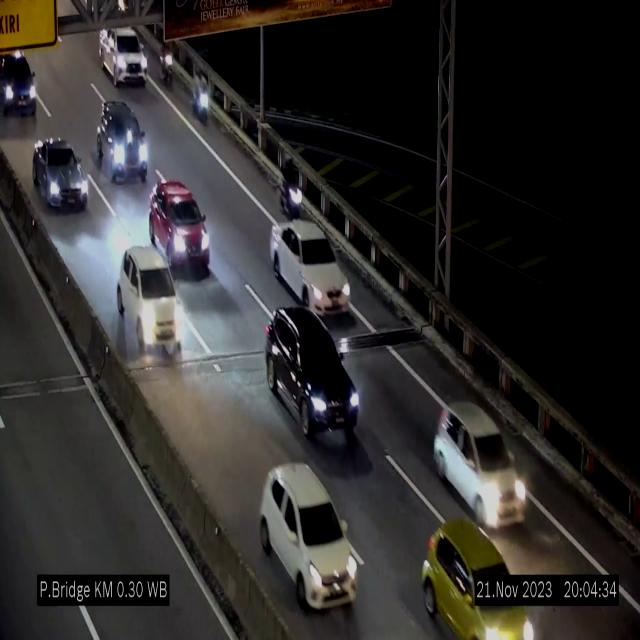Car: (260, 465, 360, 610), (420, 514, 527, 640), (265, 304, 361, 444), (434, 402, 530, 526), (114, 248, 185, 356), (270, 220, 352, 313), (150, 180, 210, 276), (0, 30, 50, 135), (95, 96, 150, 188), (32, 139, 88, 209), (99, 26, 147, 88)
Motorcycle: (280, 159, 304, 216), (190, 67, 210, 132), (158, 37, 176, 94)
